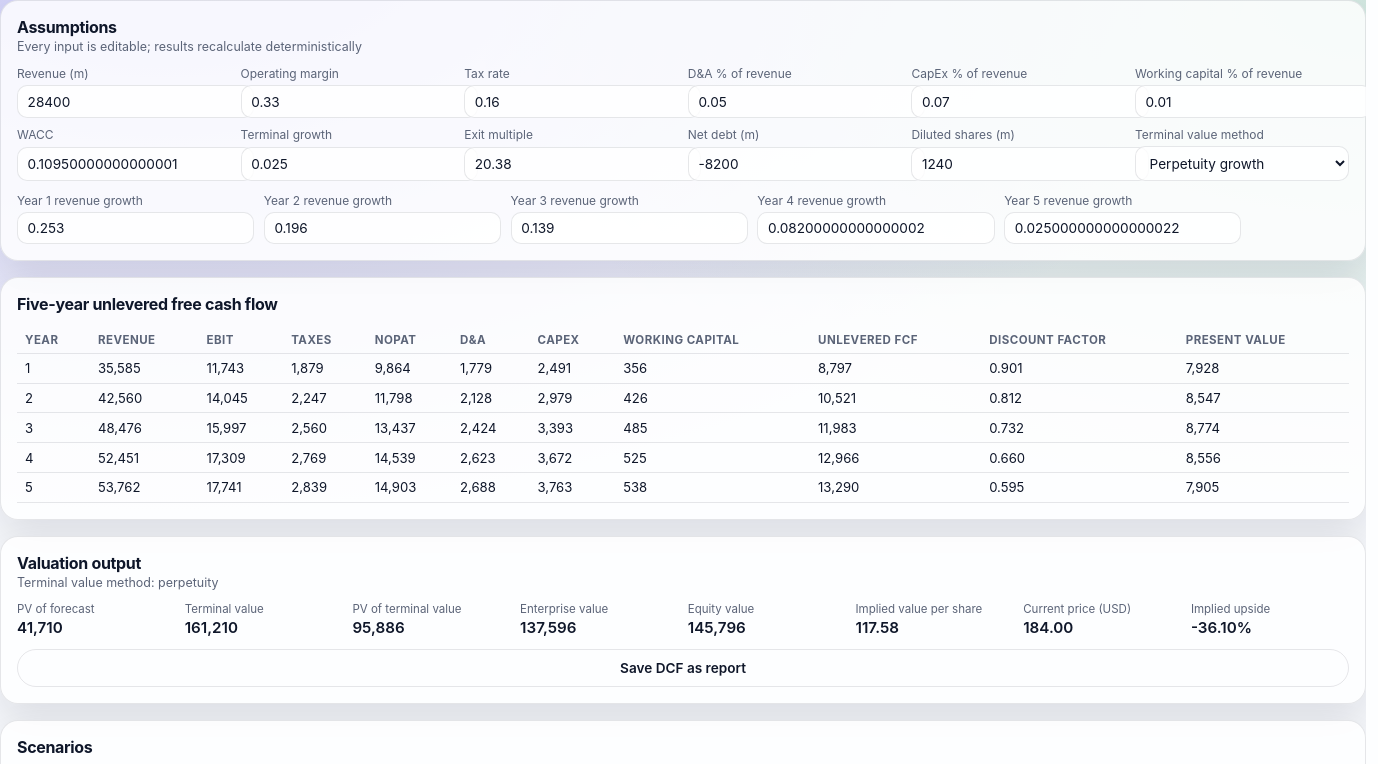
Test: CompanyValuation › saves a report and shows the confirmation status
The image size is (1378, 764).
Click the button "Save DCF as report" at [683, 668], box left=17, top=649, right=1349, bottom=687
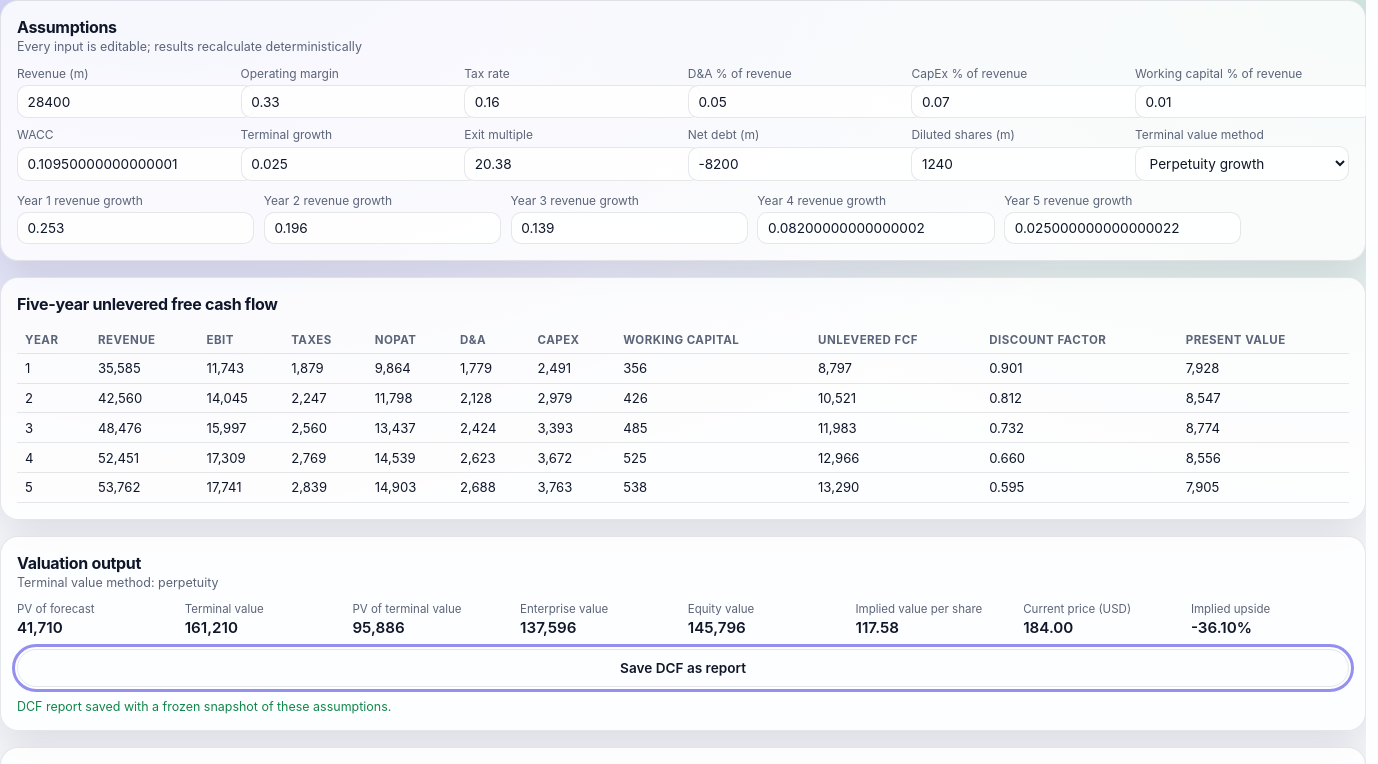
expect the message shows "DCF report saved": met, box left=17, top=699, right=391, bottom=714
